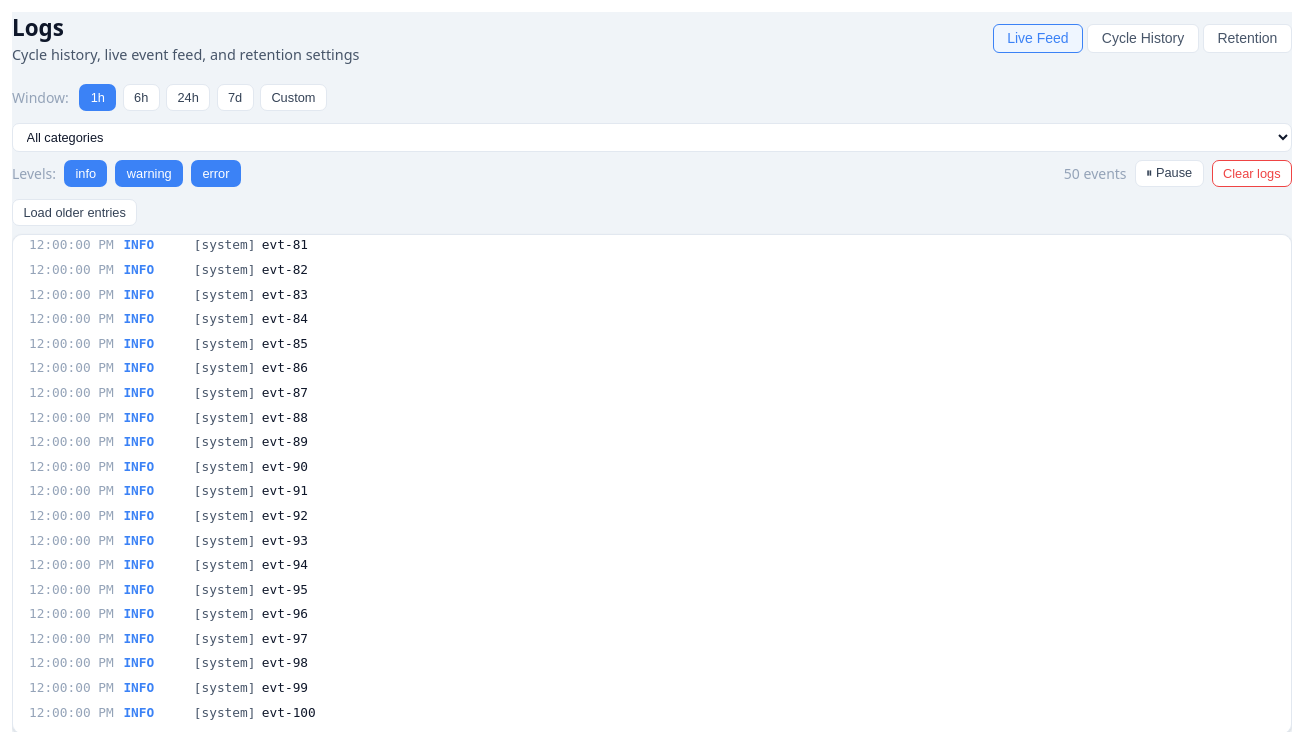
Test: Logs Page › does not duplicate rows when loading older entries overlaps the window (Issue #302)
(page scrolled)
Click the button "Load older entries".
click(75, 212)  # box [12,199,137,226]
(page scrolled)
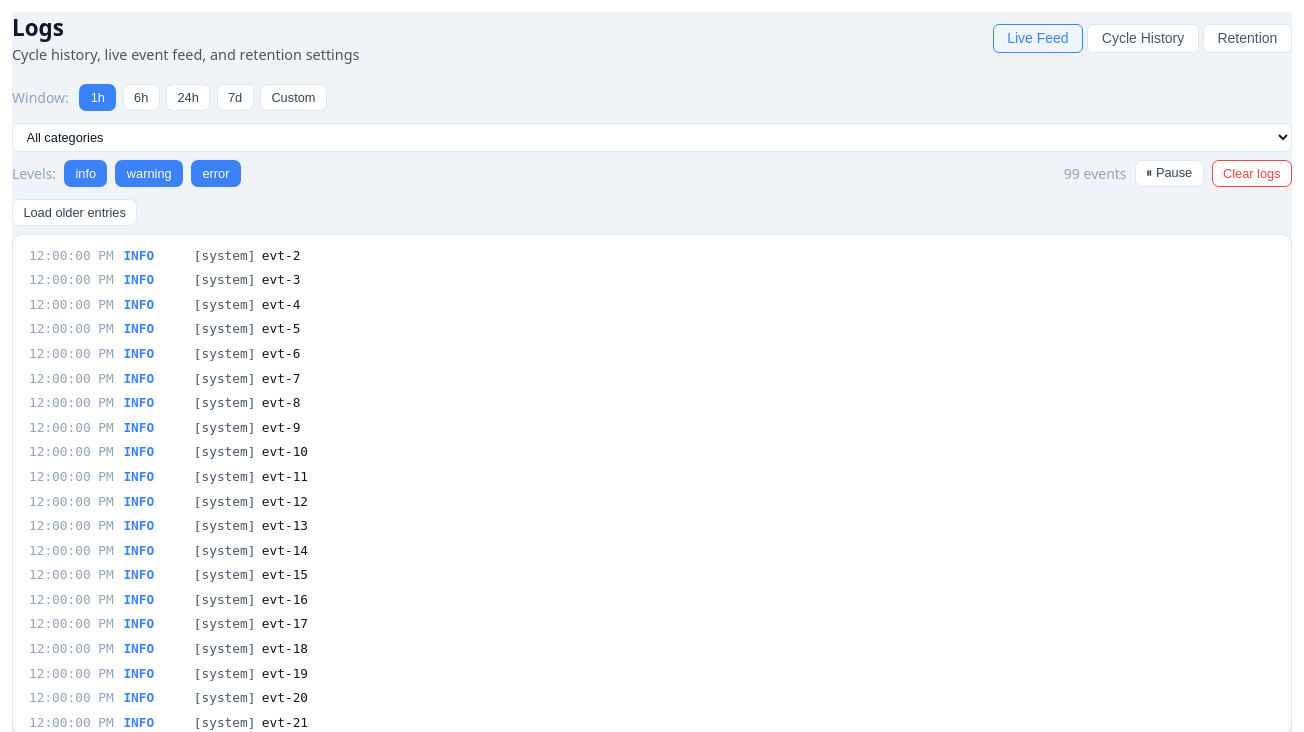
expect the text "evt-2" is shown: met, box [262,248,300,263]
